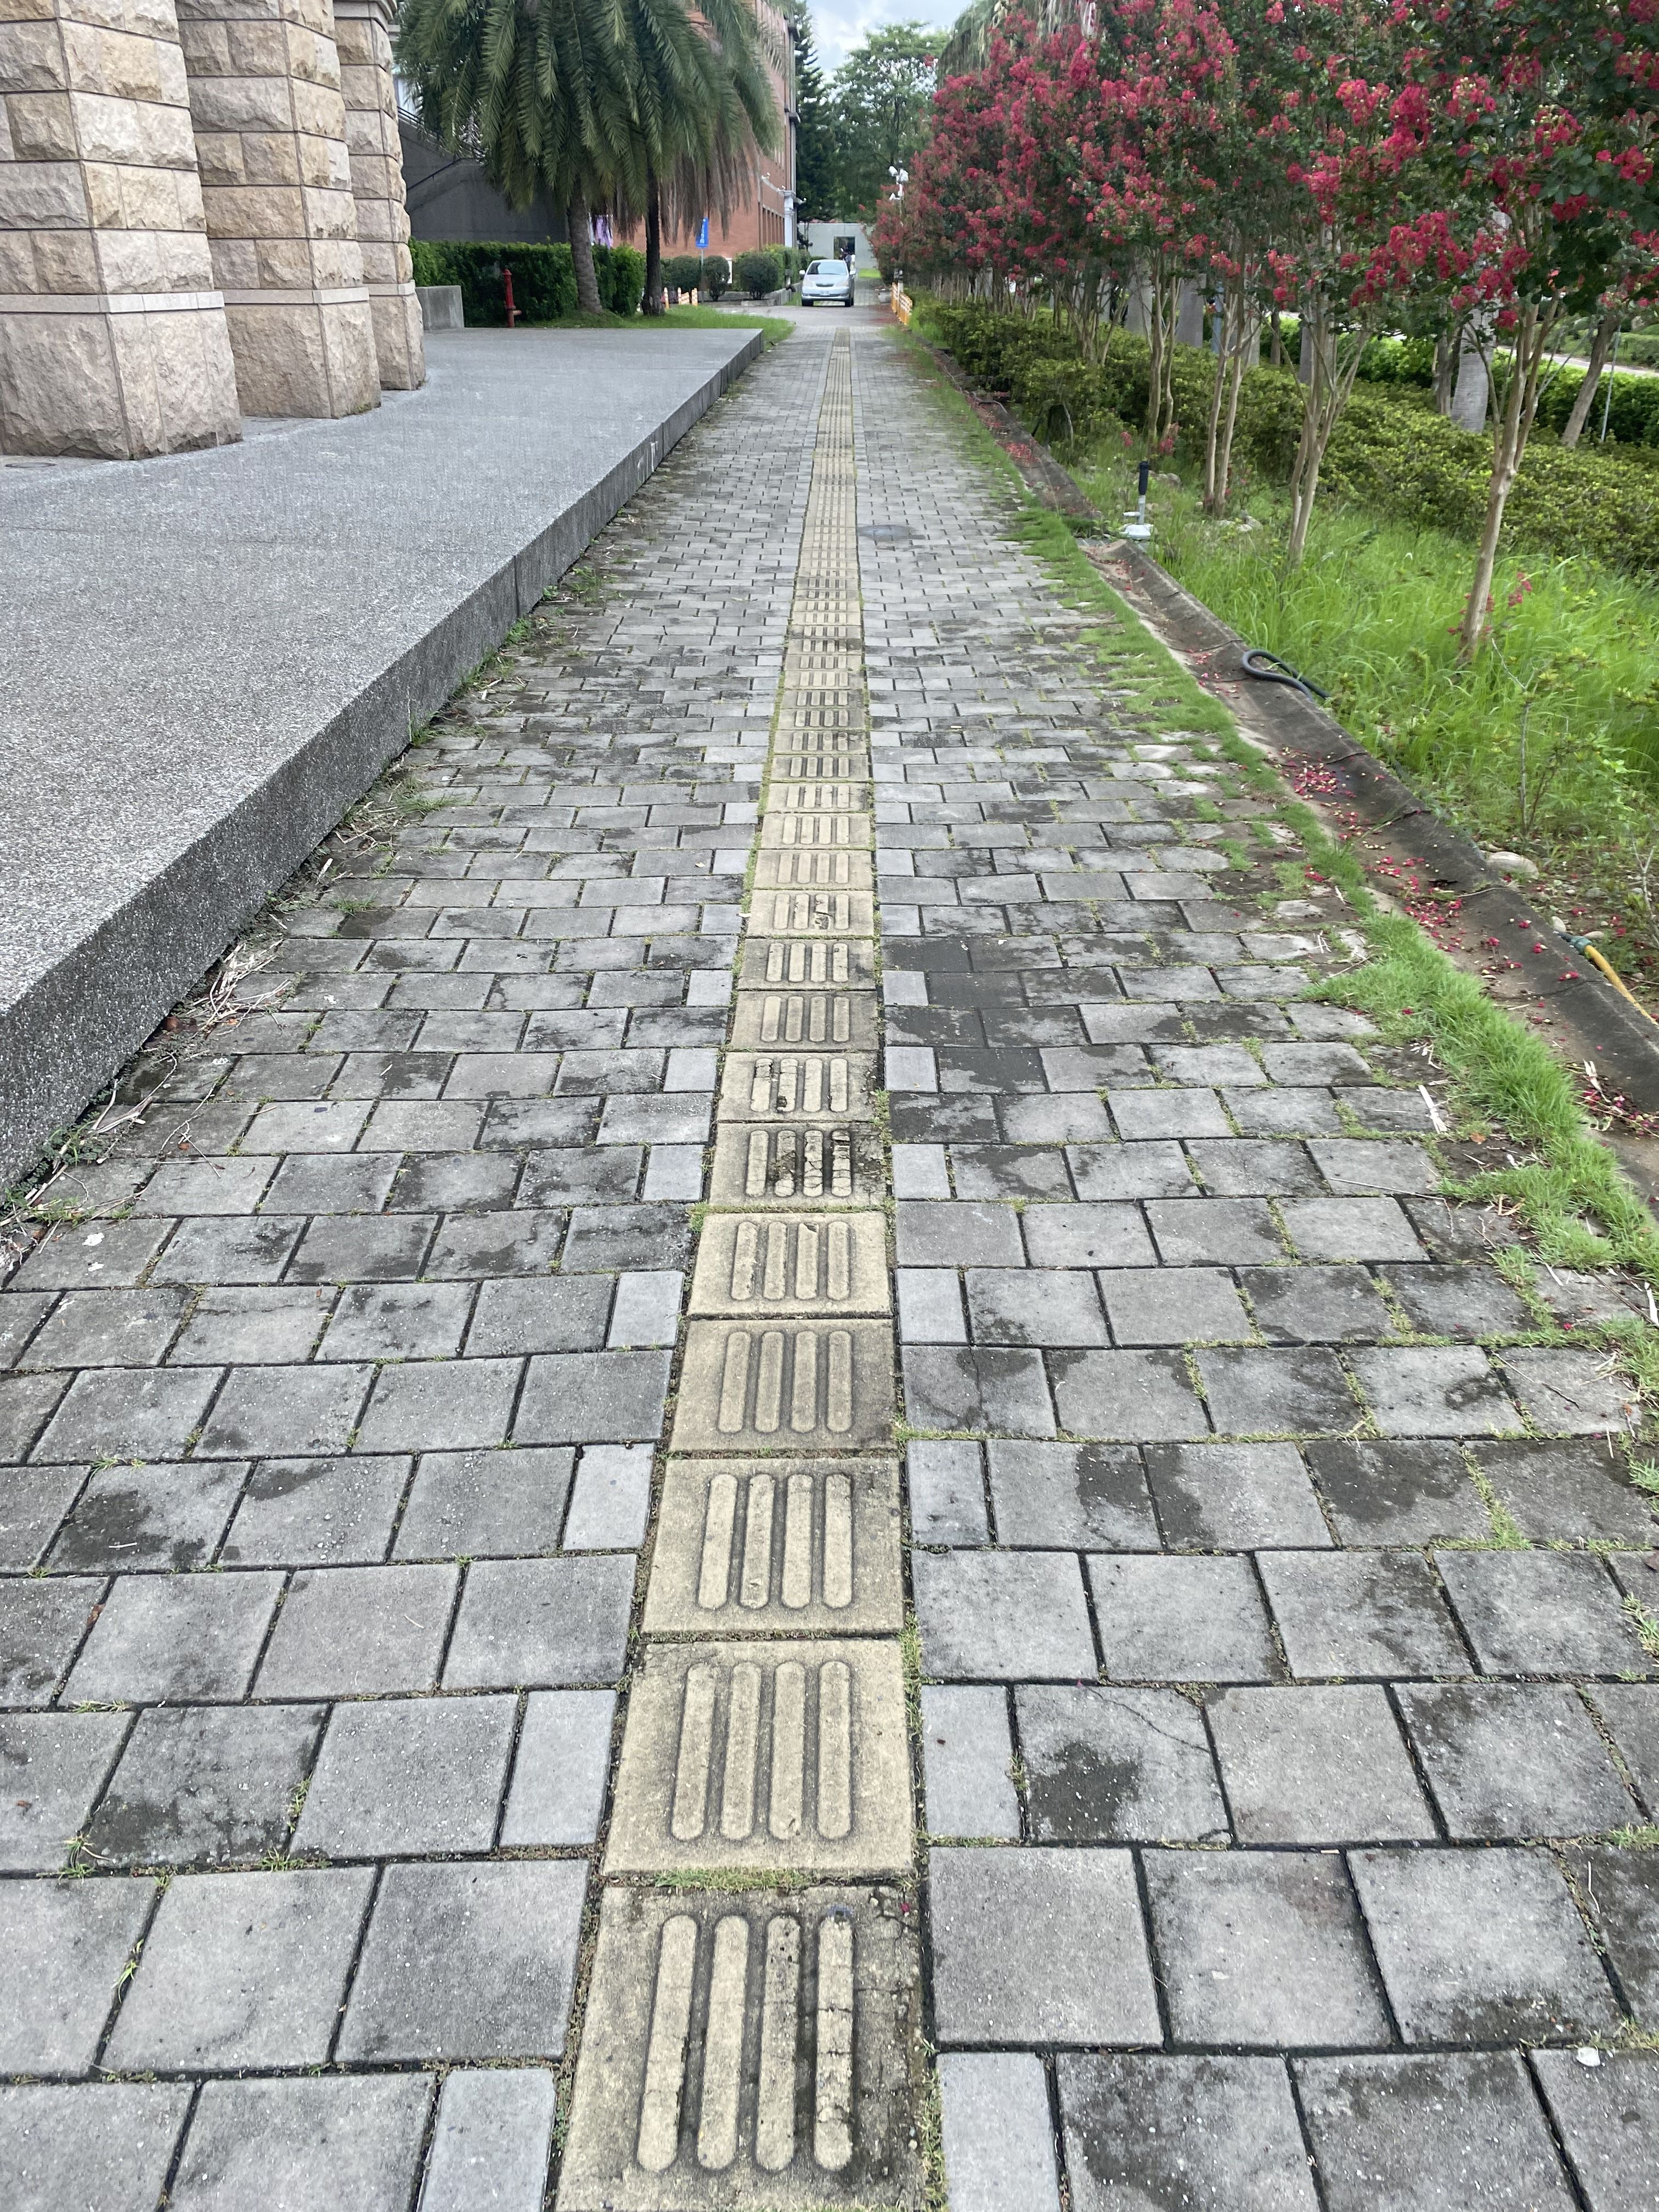0: (3, 557, 1659, 2212)
sidewalk: (627, 319, 1216, 1372)
